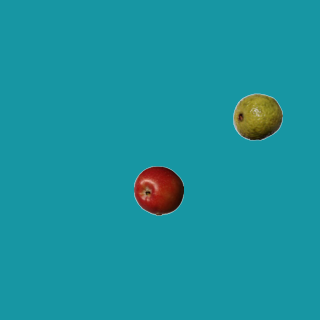Apple Braeburn: (133, 165, 183, 215)
Guava: (232, 91, 282, 141)
